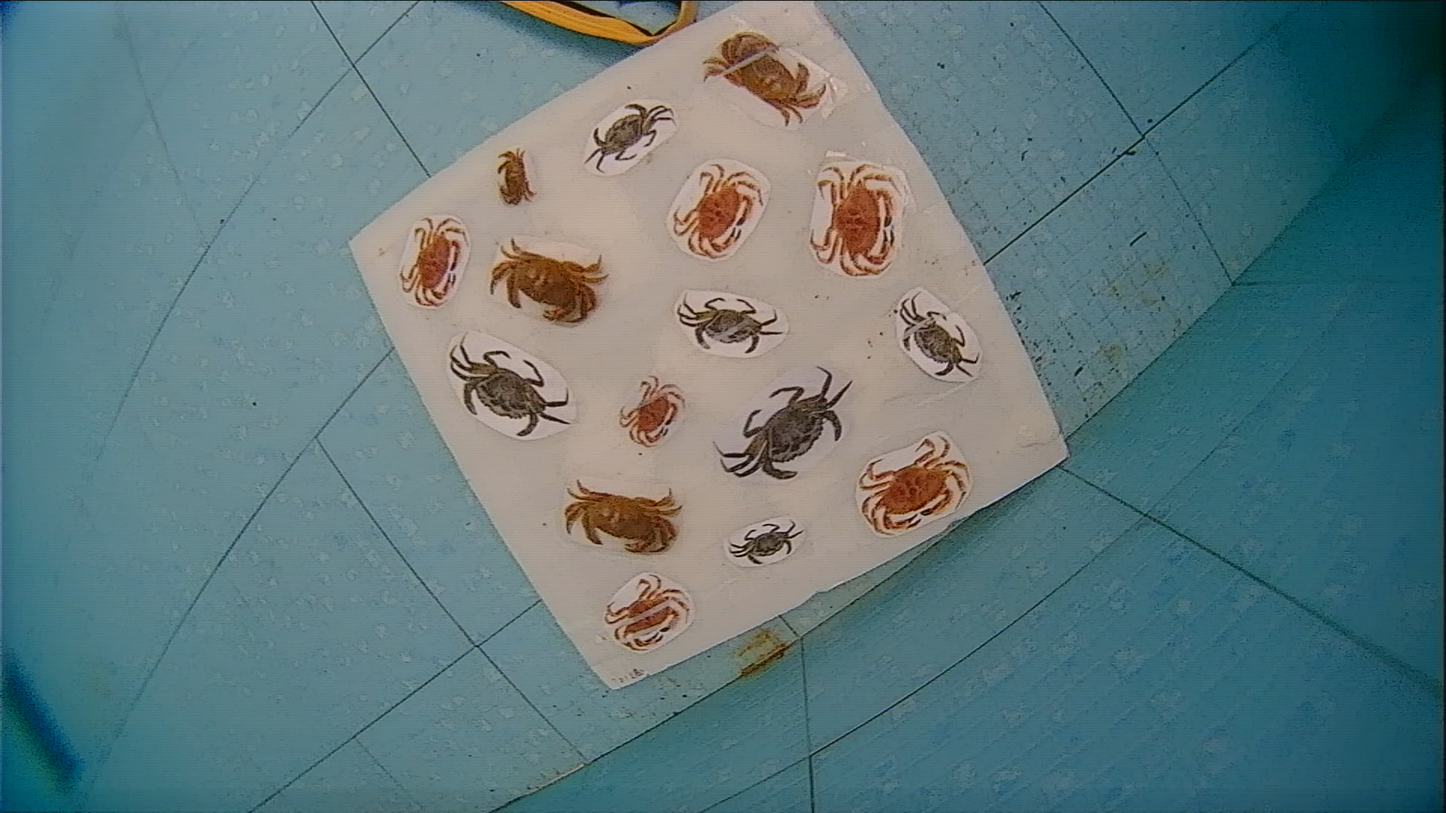GreenCrab: (715, 367, 851, 479), (450, 343, 570, 437), (901, 294, 978, 376), (585, 103, 672, 173), (677, 297, 776, 352), (730, 522, 801, 563)
